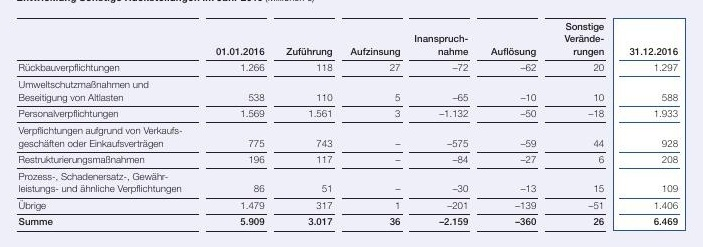table: (0, 0, 703, 247)
